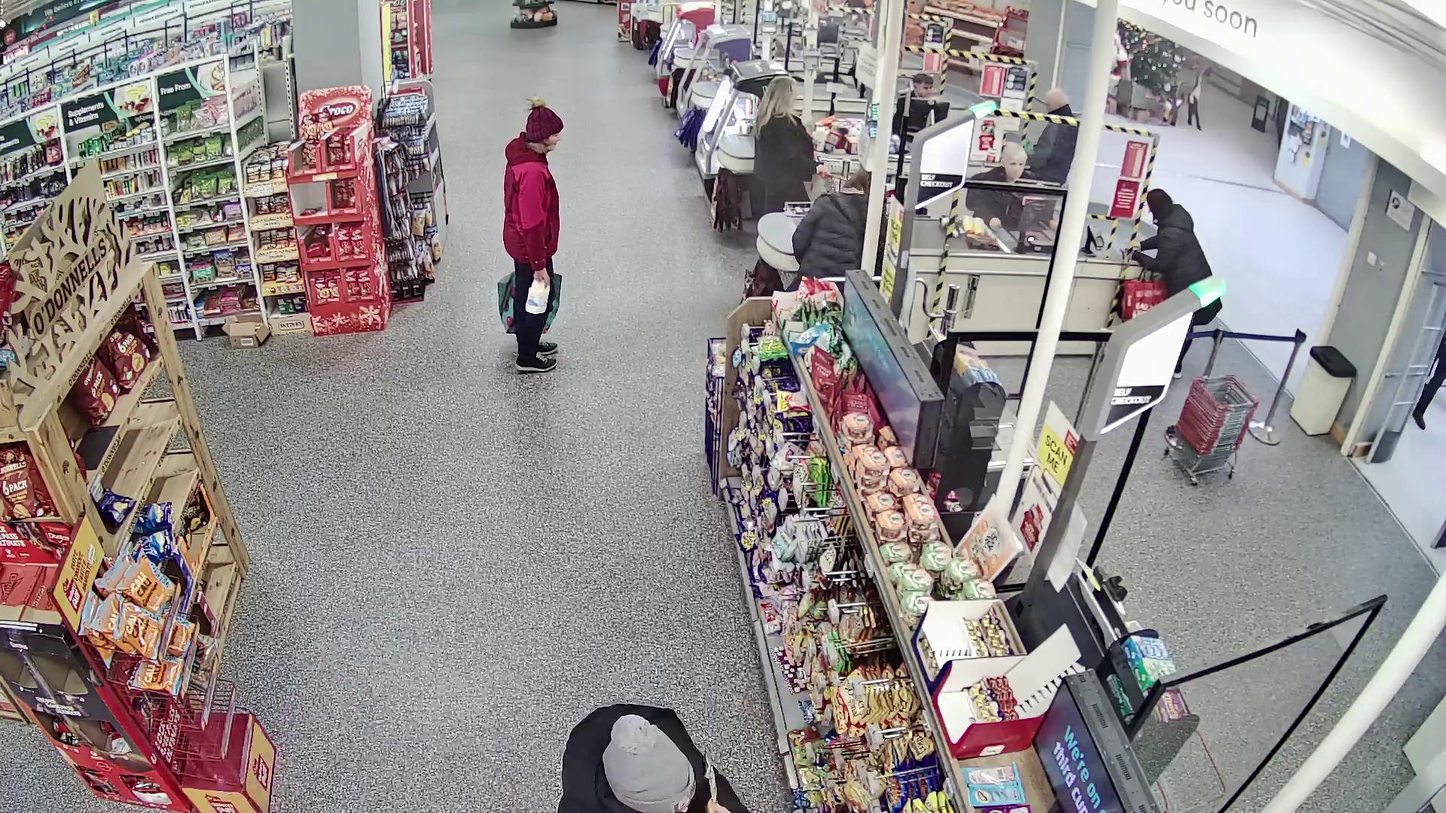carrying-item: (526, 273, 549, 314)
filled-shopping-bags: (498, 266, 563, 334)
person: (503, 95, 564, 371)
person with carrying item-s- and shopping bag-s-: (497, 94, 563, 371)
